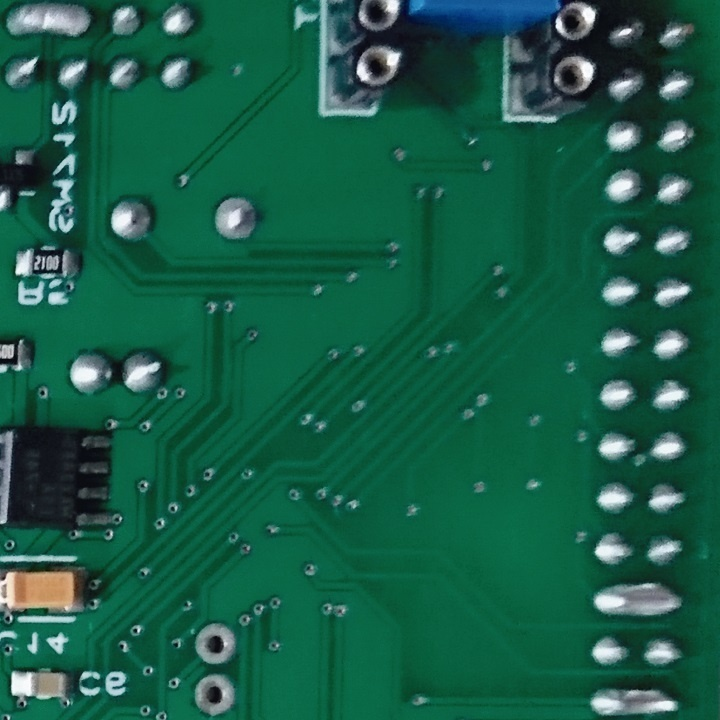F: (191, 672, 239, 718), (213, 195, 258, 241), (193, 623, 239, 665)
P: (587, 578, 684, 618), (589, 680, 685, 720), (4, 1, 93, 40)
